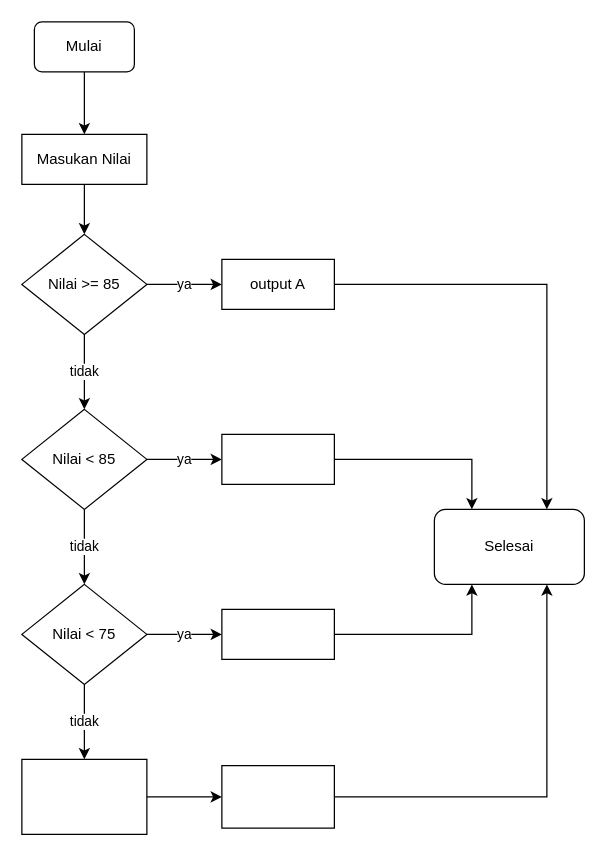
Some shapes in this 606 by 856 pixel diagram are drawn without their labels. The centre of each missing label's shape, as x and y in pixels:
Nilai < 60: the point at 84,796
output B: the point at 277,458
output C: the point at 277,633
output D: the point at 277,796
